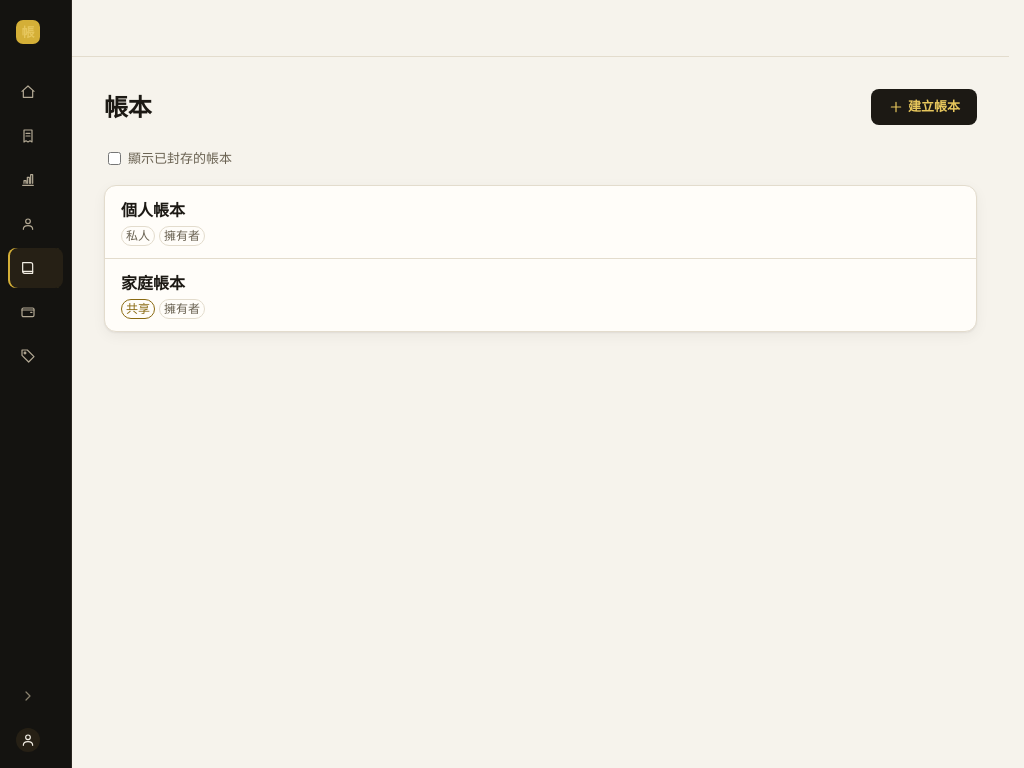
Scenario: Ledgers page › defaults to a personal ledger and hides participants
Expected: the link "個人帳本" is shown, top-left (121, 198), bottom-right (185, 220)
Click the button "建立帳本" at {"x": 924, "y": 107}, box top-left (871, 89), bottom-right (977, 125)
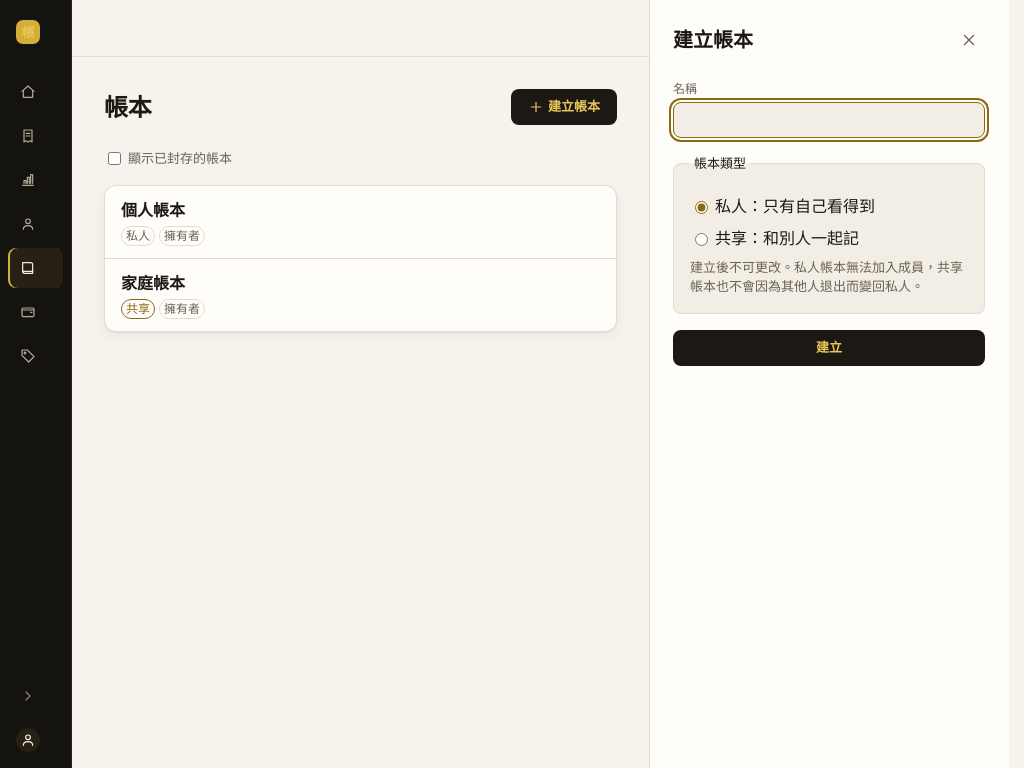
Now the radio button labelled "私人：只有自己看得到" is checked, box top-left (695, 200), bottom-right (708, 214)
